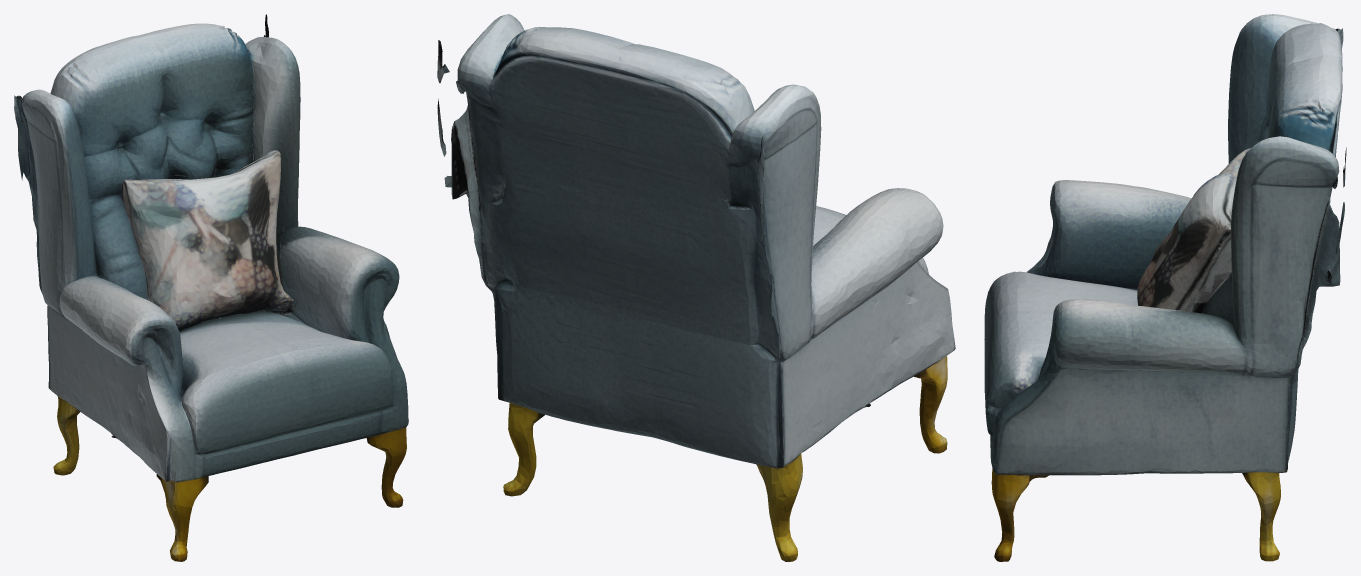
3 views of the same model, side by side, from view 1: azimuth 30°, elevation 25°; view 2: azimuth 150°, elevation 25°; view 3: azimuth 270°, elevation 25° (orthographic). The views are drawn at different scales.
Visible parts, largest first — view 1: world; view 2: world; view 3: world.
Boxes of the visible parts, <box> form: world: <box>14,14,408,561</box>; world: <box>437,14,955,561</box>; world: <box>984,14,1346,561</box>.
Size of the model in its own units: 0.7367 by 0.9994 by 0.7377.
1 material, 1 textured.
